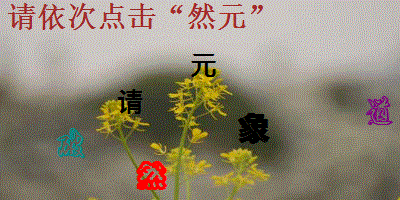result: (183, 1, 249, 32)
text: (135, 159, 171, 192), (236, 112, 270, 145), (55, 128, 86, 160), (365, 95, 394, 128), (187, 50, 219, 79), (114, 86, 144, 115)
